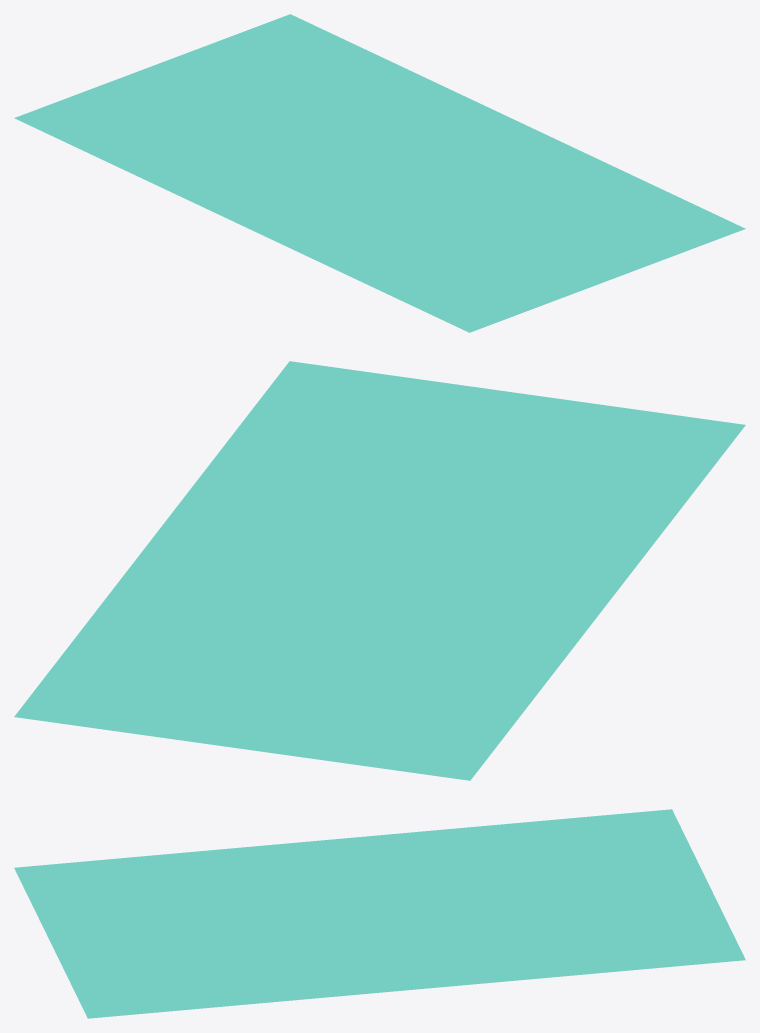
Rendered from Water.glb.
3 views of the same model, one above another, from view 1: azimuth 30°, elevation 25°; view 2: azimuth 150°, elevation 25°; view 3: azimuth 270°, elevation 25° (orthographic). The views are drawn at different scales.
Parts seen in each view (by area): view 1: Water; view 2: Water; view 3: Water.
Part boxes in pixels (x1,y1,x2,y2): Water: (14,14,745,332); Water: (14,361,745,780); Water: (14,809,745,1018).
Size of what is drawn, in the model's own units: 113 by 0 by 167.
